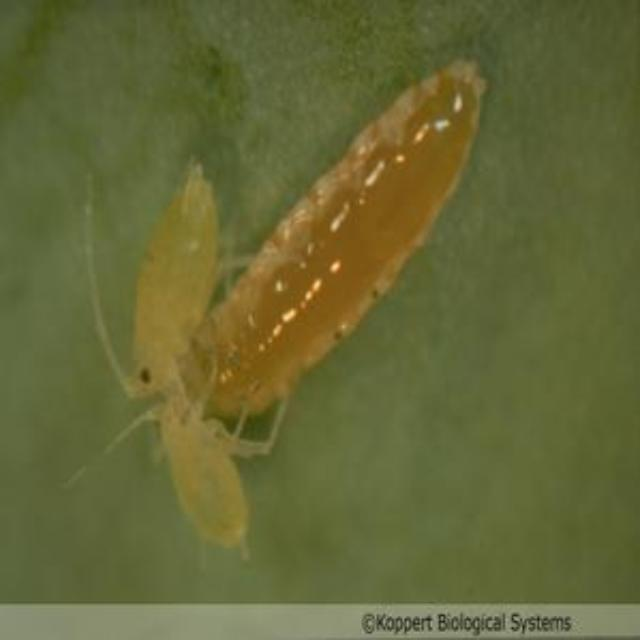Green peach aphid: (41, 29, 536, 567)
